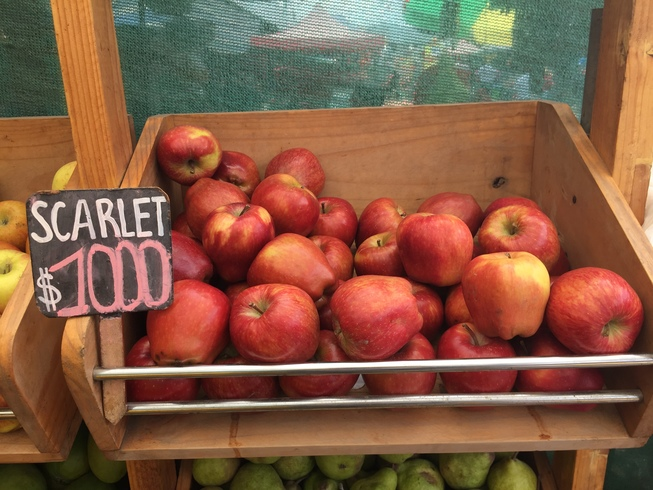precio: (25, 189, 174, 316)
